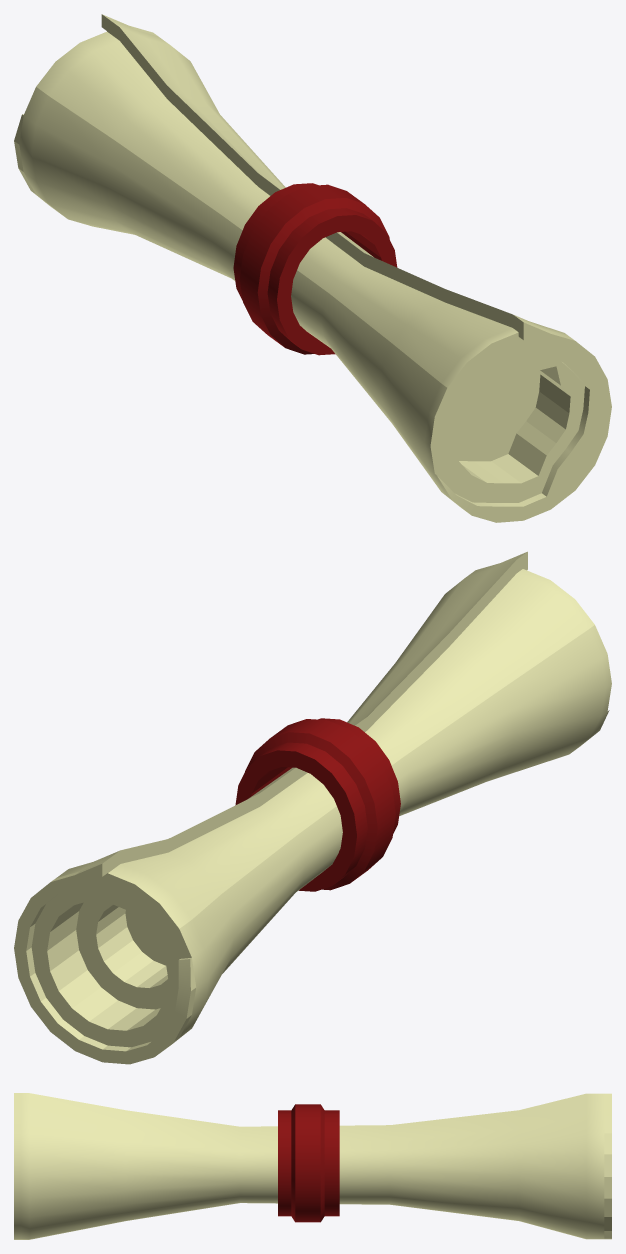
File: scroll2.fbx
3 views of the same model, one above another, from view 1: azimuth 30°, elevation 25°; view 2: azimuth 150°, elevation 25°; view 3: azimuth 270°, elevation 25° (orthographic). The views are drawn at different scales.
Visible parts, largest first — view 1: scroll3; view 2: scroll3; view 3: scroll3.
Part boxes in pixels (x1=…): scroll3: x1=14, y1=14, x2=611, y2=522; scroll3: x1=14, y1=551, x2=611, y2=1064; scroll3: x1=14, y1=1093, x2=611, y2=1239.
Size of the model in its own units: 1.39 by 1.49 by 5.75.
